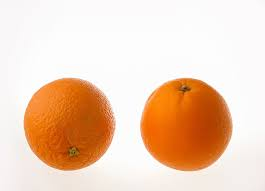orange: (20, 76, 124, 173), (139, 76, 235, 175)
